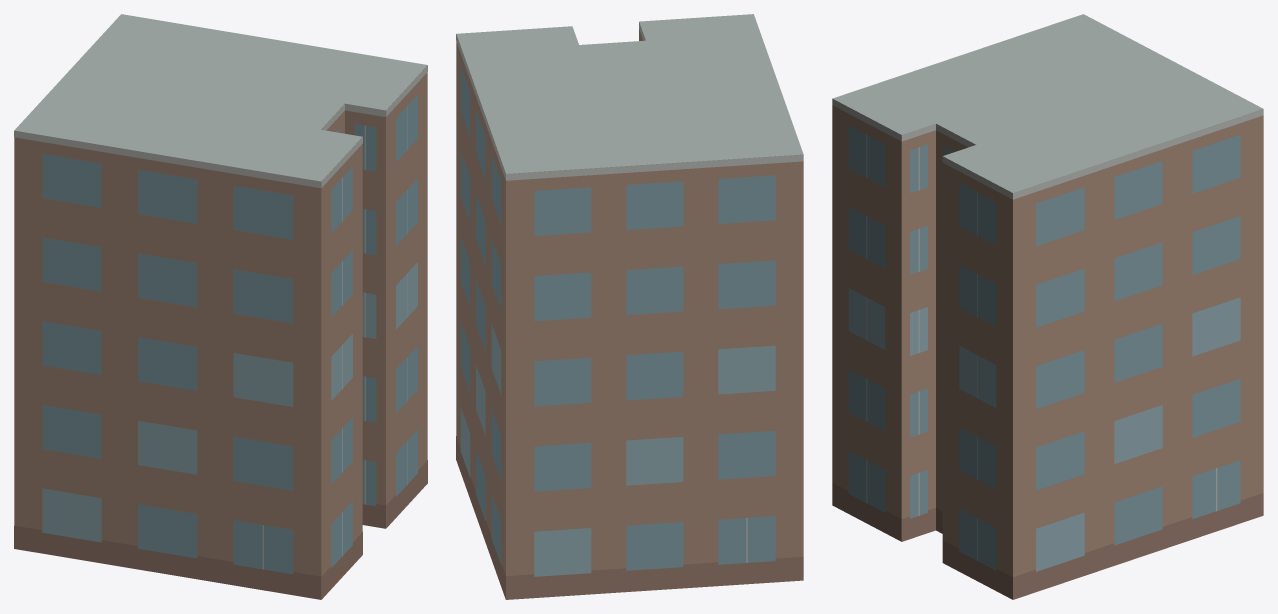
File: survey-upis-32746256.glb
The picture shows the model from 3 angles, left to right: view 1: azimuth 30°, elevation 25°; view 2: azimuth 150°, elevation 25°; view 3: azimuth 270°, elevation 25°; orthographic projection. The views are drawn at different scales.
Visible parts, largest first — view 1: survey-upis-32746256.tmp; view 2: survey-upis-32746256.tmp; view 3: survey-upis-32746256.tmp.
Part boxes in pixels (x1,y1,x2,y2): survey-upis-32746256.tmp: (14, 14, 427, 599); survey-upis-32746256.tmp: (456, 14, 803, 599); survey-upis-32746256.tmp: (832, 14, 1263, 599).
Bounding box in the file's own units: 14.31 × 15.15 × 14.57.
